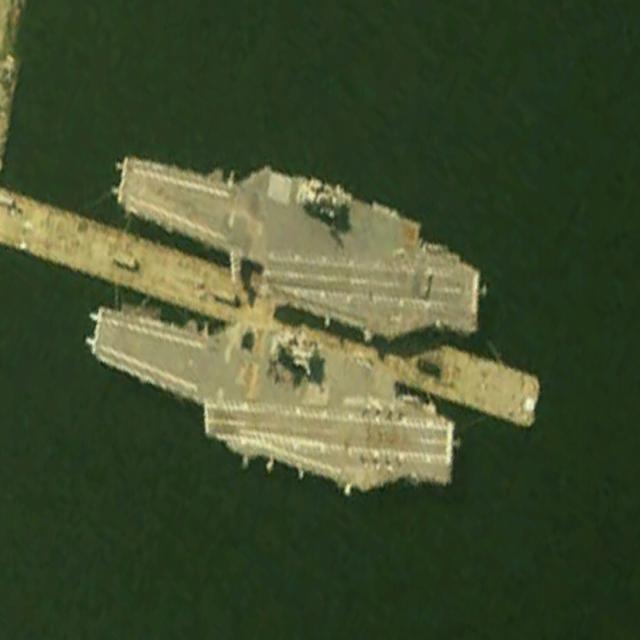Aircraft Carrier: (71, 262, 467, 537), (100, 111, 493, 370)
